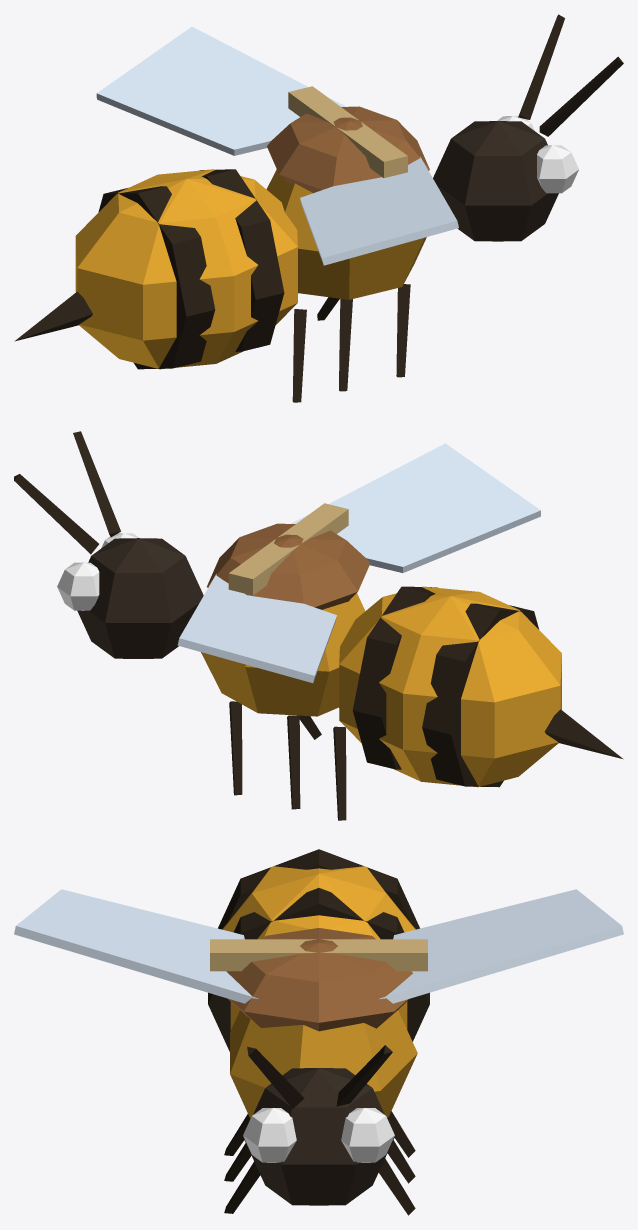
File: bee.glb
The picture shows the model from 3 angles, top to bottom: view 1: azimuth 30°, elevation 25°; view 2: azimuth 150°, elevation 25°; view 3: azimuth 270°, elevation 25°; orthographic projection. The views are drawn at different scales.
Parts seen in each view (by area): view 1: tail, body, wing_l, pet_armor, wing_r, sleg_0.05, sleg_-0.04, sleg_0.0; view 2: tail, body, wing_r, pet_armor, wing_l, sleg_0.05, sleg_-0.04, sleg_0.0; view 3: body, pet_armor, tail, wing_r, wing_l, sleg_0.05, sleg_0.0, sleg_-0.04.
Part boxes in pixels (x1=…): tail: x1=14, y1=169, x2=297, y2=369; body: x1=266, y1=14, x2=623, y2=299; wing_l: x1=96, y1=26, x2=346, y2=155; pet_armor: x1=267, y1=86, x2=429, y2=192; wing_r: x1=300, y1=156, x2=458, y2=265; sleg_0.05: x1=317, y1=284, x2=410, y2=377; sleg_-0.04: x1=292, y1=309, x2=306, y2=402; sleg_0.0: x1=339, y1=298, x2=352, y2=391; tail: x1=339, y1=586, x2=623, y2=787; body: x1=14, y1=431, x2=365, y2=716; wing_r: x1=290, y1=443, x2=540, y2=572; pet_armor: x1=207, y1=503, x2=370, y2=609; wing_l: x1=177, y1=574, x2=336, y2=682; sleg_0.05: x1=229, y1=701, x2=321, y2=795; sleg_-0.04: x1=333, y1=726, x2=346, y2=820; sleg_0.0: x1=287, y1=707, x2=339, y2=809; body: x1=230, y1=1010, x2=417, y2=1205; pet_armor: x1=210, y1=928, x2=427, y2=1031; tail: x1=208, y1=849, x2=429, y2=1051; wing_r: x1=14, y1=889, x2=258, y2=1003; wing_l: x1=379, y1=889, x2=623, y2=1003; sleg_0.05: x1=224, y1=1158, x2=415, y2=1215; sleg_0.0: x1=224, y1=1140, x2=415, y2=1183; sleg_-0.04: x1=224, y1=1111, x2=415, y2=1157.
Bounding box in the file's own units: 0.503 × 0.2146 × 0.4012.
